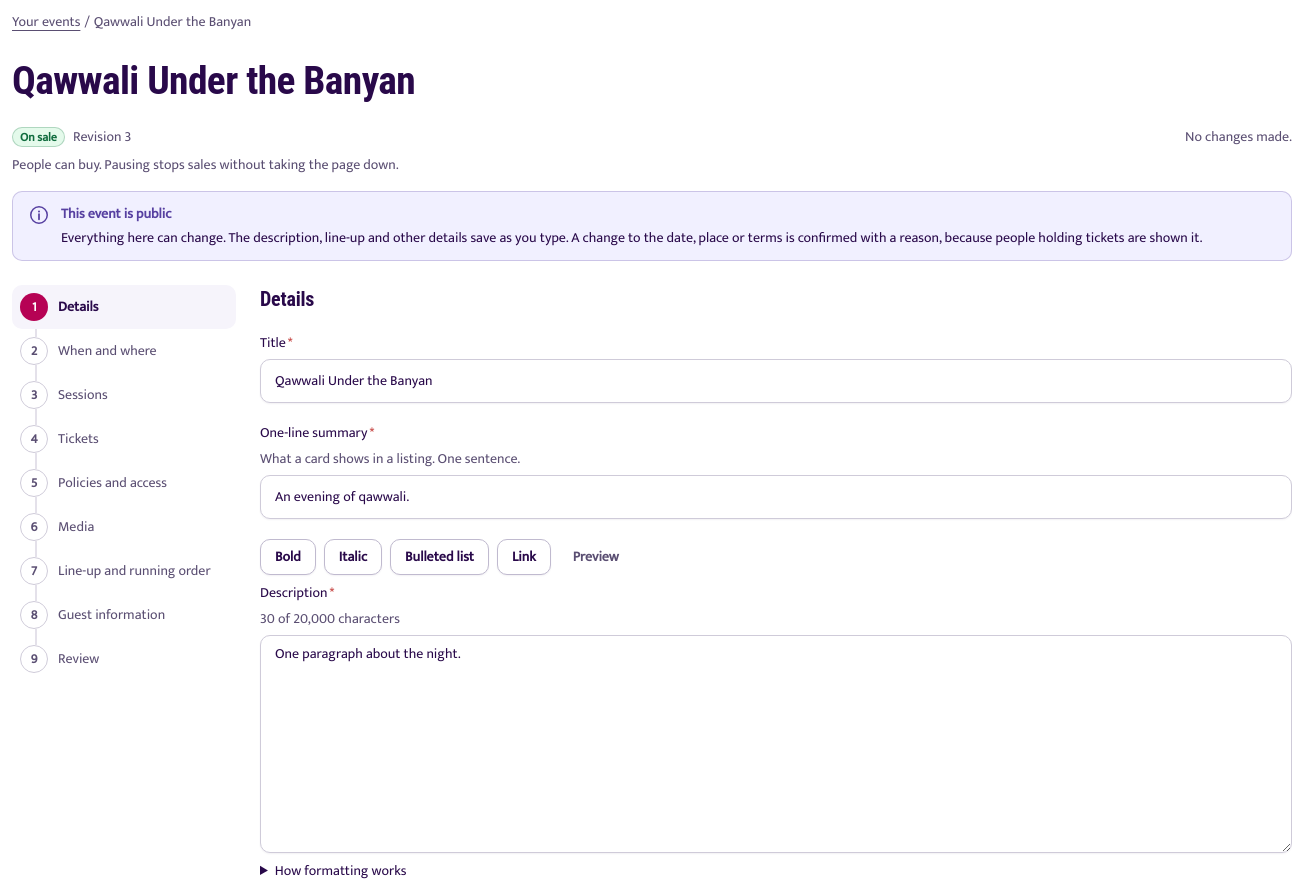
Test: the controls the organisation’s membership allows › leaves a member who also edits as the team at The Desi Events in the organiser’s editor
The image size is (1304, 893).
Click the button named "step 9" at (124, 659), box x1=12 y1=637 x2=236 y2=681
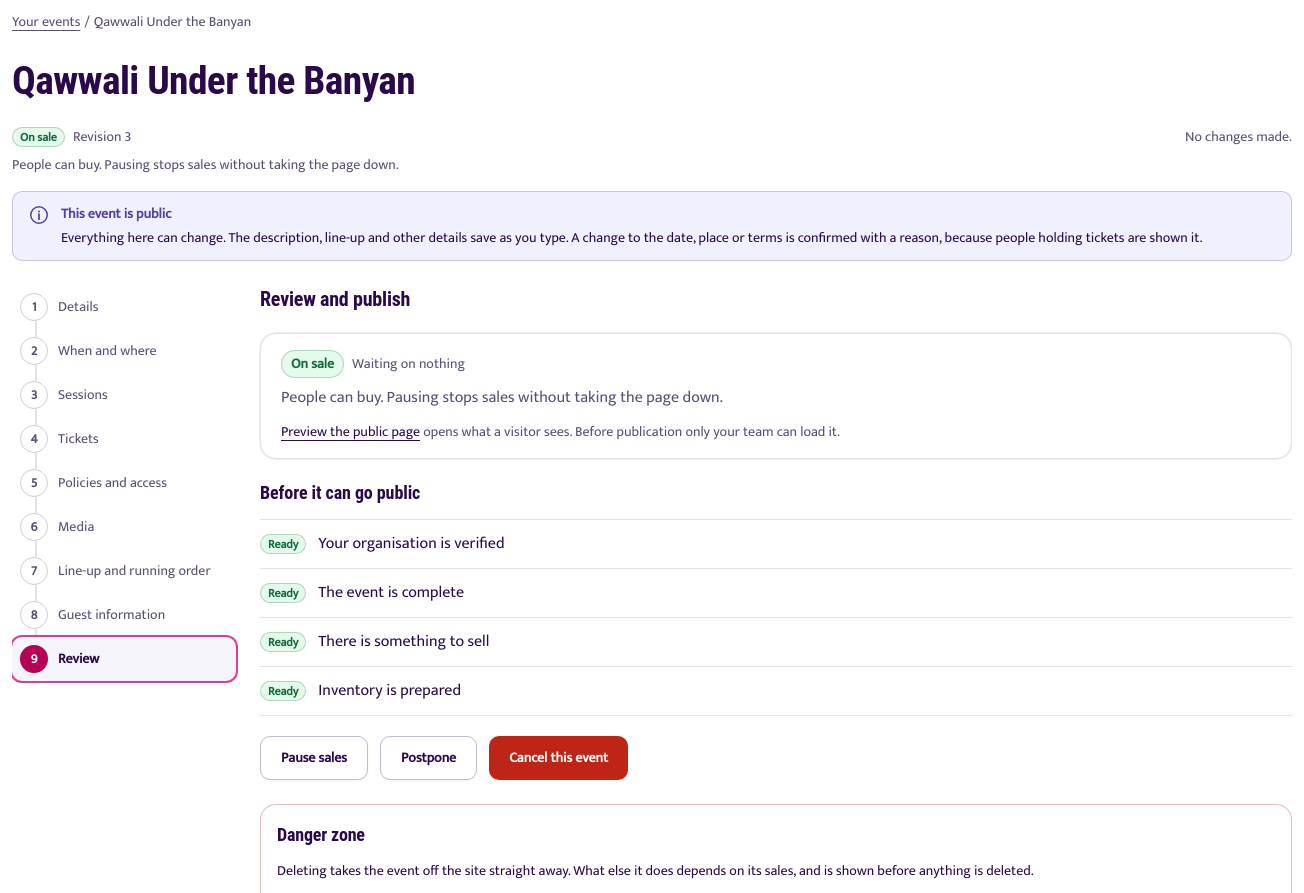
Expected: the navigation bar named "Editor steps" is shown, x1=12 y1=285 x2=236 y2=681
Expected: the heading "Danger zone" is shown, x1=277 y1=824 x2=365 y2=845
